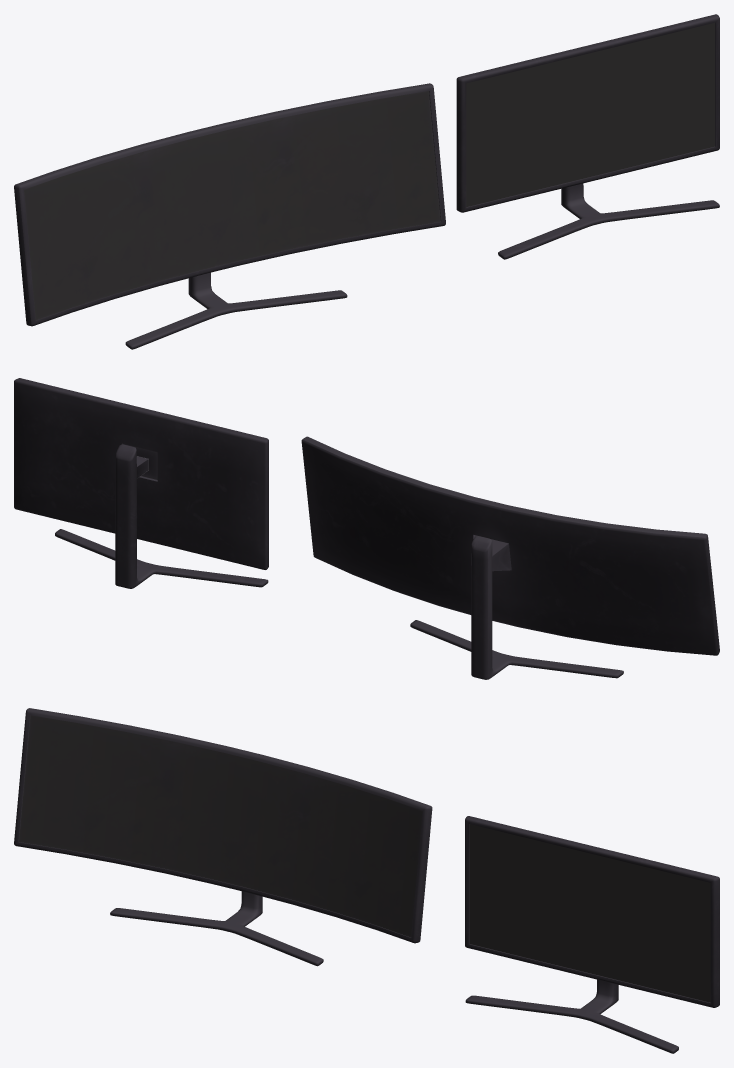
Rendered from basic_pc_monitors.glb.
The picture shows the model from 3 angles, top to bottom: view 1: azimuth 30°, elevation 25°; view 2: azimuth 150°, elevation 25°; view 3: azimuth 330°, elevation 25°; orthographic projection. The views are drawn at different scales.
Parts seen in each view (by area): view 1: SM_widescreen_monitor_1, SM_standard_monitor_5, SM_widescreen_stand_2, SM_standard_monitor_stand_4; view 2: SM_widescreen_monitor_1, SM_standard_monitor_5, SM_standard_monitor_stand_4, SM_widescreen_stand_2; view 3: SM_widescreen_monitor_1, SM_standard_monitor_5, SM_widescreen_stand_2, SM_standard_monitor_stand_4.
Boxes of the visible parts, x1,y1,x2,y2 form: SM_widescreen_monitor_1: (14,83,445,326); SM_standard_monitor_5: (456,14,719,212); SM_widescreen_stand_2: (125,272,347,349); SM_standard_monitor_stand_4: (498,183,719,259); SM_widescreen_monitor_1: (301,436,719,655); SM_standard_monitor_5: (14,378,268,569); SM_standard_monitor_stand_4: (55,444,268,588); SM_widescreen_stand_2: (410,536,623,679); SM_widescreen_monitor_1: (14,708,432,943); SM_standard_monitor_5: (465,816,719,1007); SM_widescreen_stand_2: (110,891,323,966); SM_standard_monitor_stand_4: (465,979,678,1053).
Size of the model in its own units: 2.03 by 0.4888 by 0.2281.
Materials: 2 (2 with a texture image).
